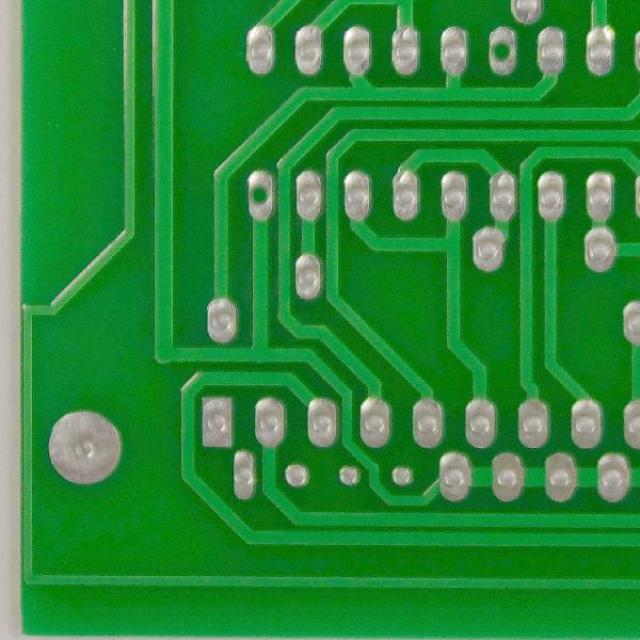Missing_Hole: (242, 167, 279, 222), (485, 24, 522, 77)
